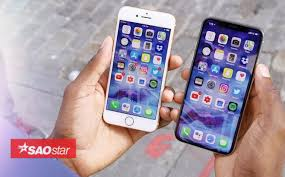iphone: (98, 3, 175, 133)
iphone8: (96, 1, 173, 131)
